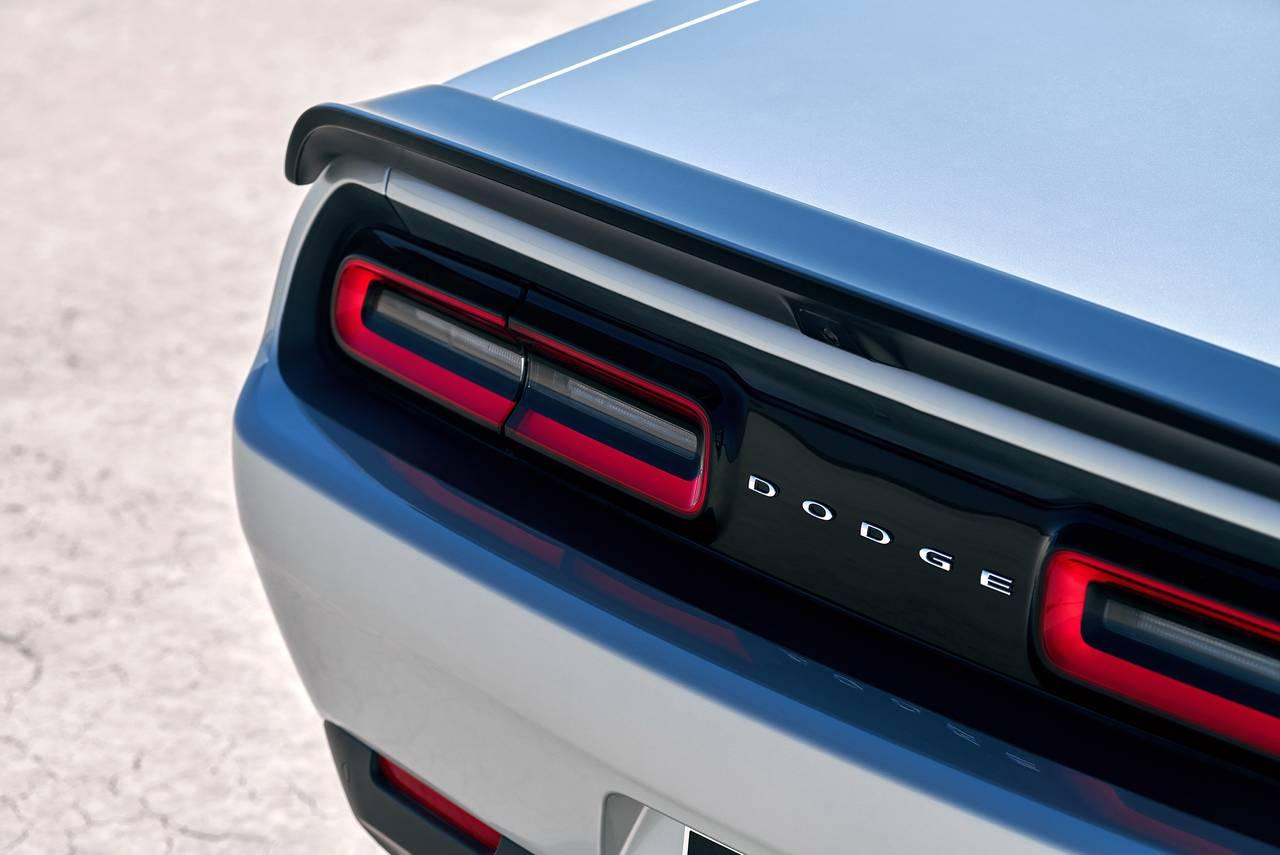dodge: (724, 447, 1026, 613)
